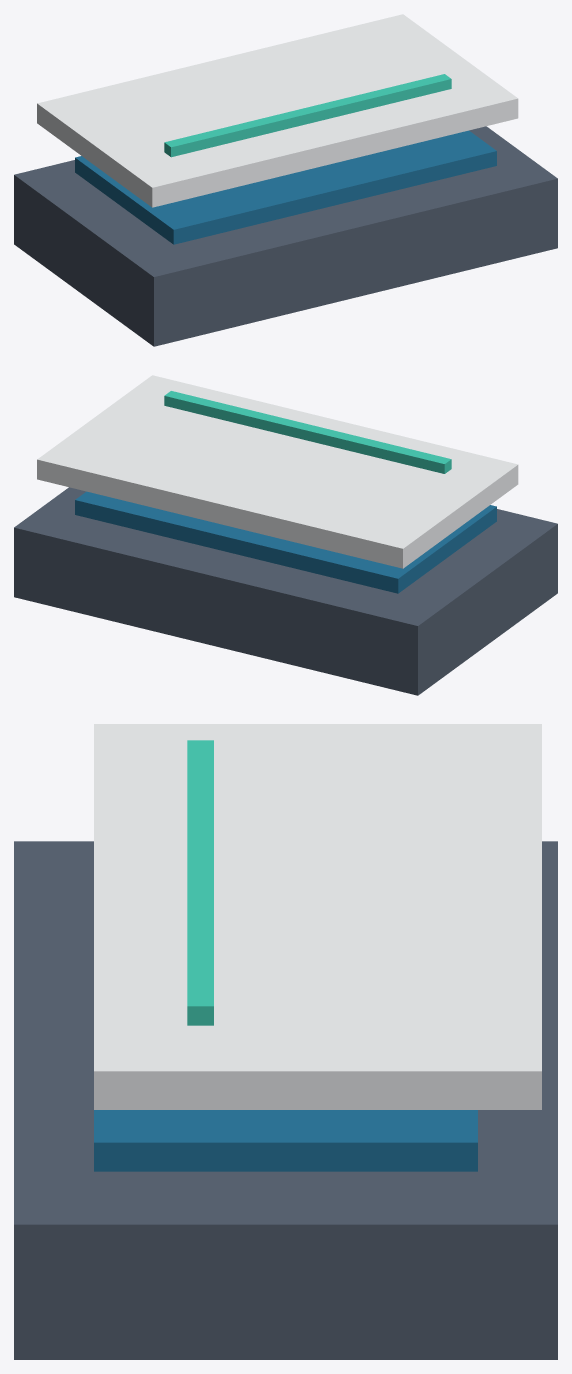
The model's file is scanner.glb.
3 renders of one model, top to bottom at view 1: azimuth 30°, elevation 25°; view 2: azimuth 150°, elevation 25°; view 3: azimuth 270°, elevation 25°, orthographic. The views are drawn at different scales.
Parts seen in each view (by area): view 1: scanner base, scanner lid, scanner glass, scan line; view 2: scanner base, scanner lid, scanner glass, scan line; view 3: scanner lid, scanner base, scanner glass, scan line.
Boxes of the visible parts, box(x1,y1,x2,y2) form: scanner base: box(14, 126, 557, 346); scanner lid: box(37, 14, 518, 207); scanner glass: box(75, 130, 496, 244); scan line: box(164, 74, 451, 157); scanner base: box(14, 487, 557, 695); scanner lid: box(37, 375, 518, 568); scanner glass: box(75, 491, 496, 593); scan line: box(164, 391, 451, 473); scanner lid: box(94, 724, 541, 1109); scanner base: box(14, 841, 557, 1359); scanner glass: box(94, 1110, 477, 1171); scan line: box(187, 740, 213, 1025).
Bounding box in the file's own units: 1.7 × 0.61 × 1.02.
